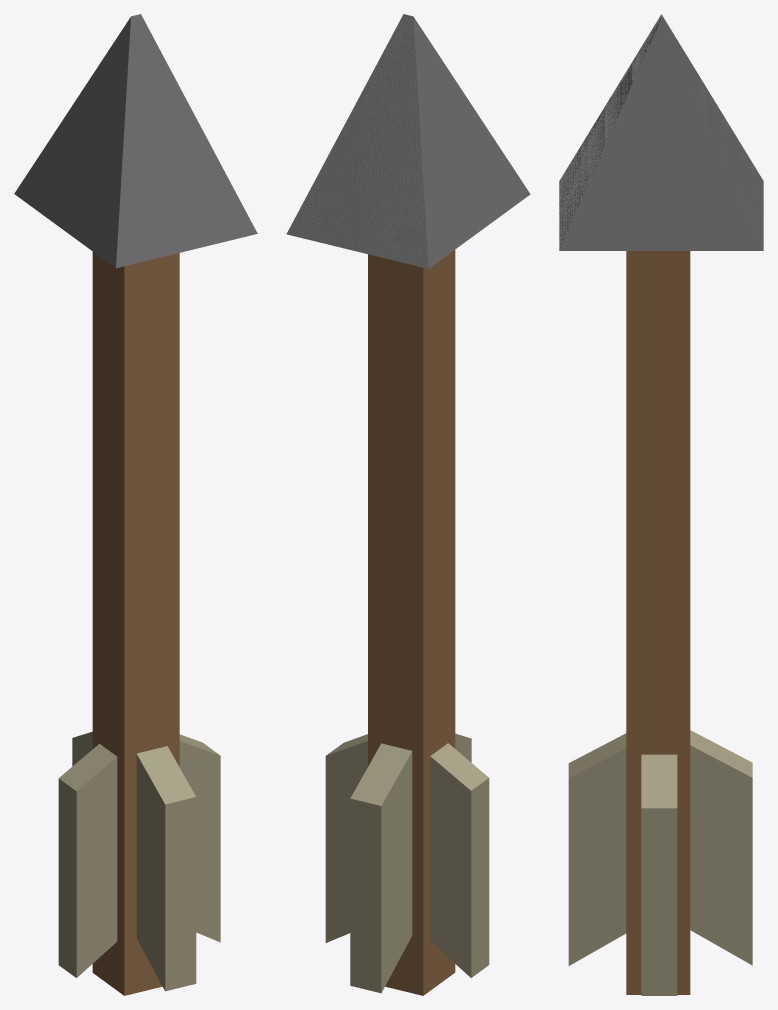
File: Pijl.fbx
The picture shows the model from 3 angles, left to right: view 1: azimuth 30°, elevation 25°; view 2: azimuth 150°, elevation 25°; view 3: azimuth 270°, elevation 25°; orthographic projection.
Visible parts, largest first — view 1: Cube.004; view 2: Cube.004; view 3: Cube.004.
Part boxes in pixels (box(x1,y1,x2,y2)): Cube.004: box(14, 14, 257, 995); Cube.004: box(286, 14, 530, 995); Cube.004: box(559, 14, 763, 995).
Bounding box in the file's own units: 4.91 × 30.97 × 5.95.
